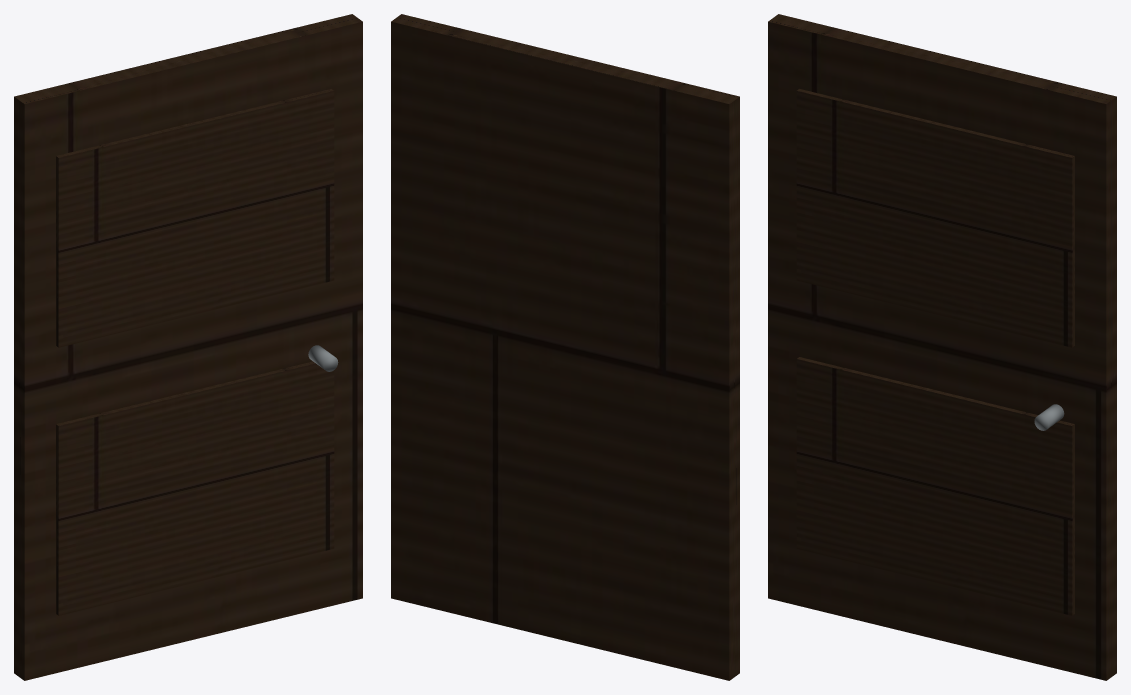
File: door.glb
3 views of the same model, side by side, from view 1: azimuth 30°, elevation 25°; view 2: azimuth 150°, elevation 25°; view 3: azimuth 330°, elevation 25° (orthographic).
Parts seen in each view (by area): view 1: Door leaf, Inset door panel.001, Inset door panel; view 2: Door leaf; view 3: Door leaf, Inset door panel.001, Inset door panel.
Part boxes in pixels (x1,y1,x2,y2): Door leaf: (14,14,362,680); Inset door panel.001: (56,89,334,347); Inset door panel: (56,361,334,615); Door leaf: (391,14,739,680); Door leaf: (768,14,1116,680); Inset door panel.001: (796,89,1074,347); Inset door panel: (796,357,1074,615).
Bounding box in the file's own units: 1.4 × 2.28 × 0.1925.
Materials: 2 (1 with a texture image).
